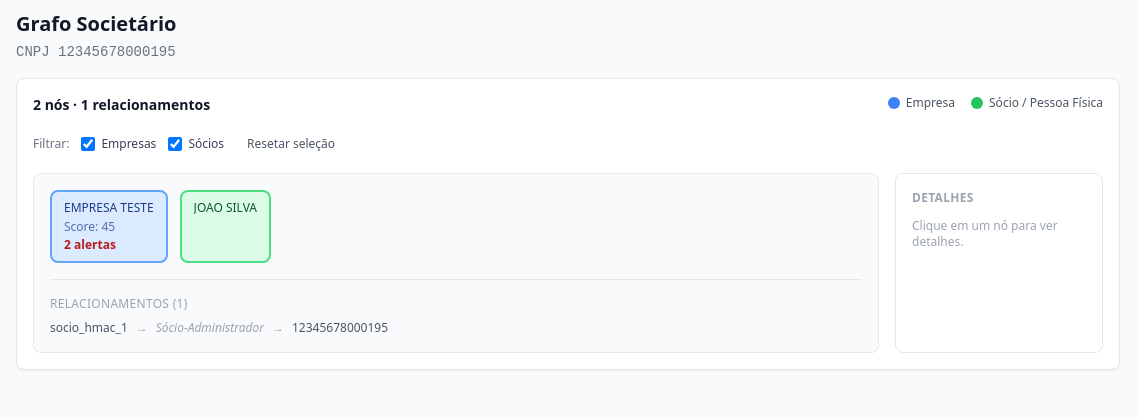
GrafoSocietario › shows node tooltip on click
The image size is (1137, 419).
Expected: the text "EMPRESA TESTE" is shown, [64,200,154,215]
Expected: the text "Clique em um nó para ver detalhes." is shown, [912,217,1058,250]
Note: Click the empresa node button.
Click the button "EMPRESA TESTE Score: 45 2 alertas" at (109, 226), box [50,190,168,263]
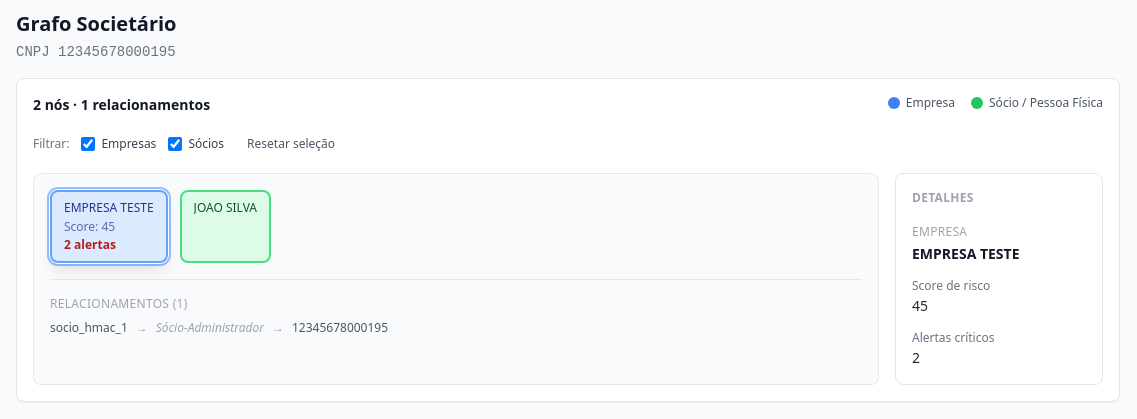
Now the text "Score de risco" is shown, box [912,277,990,294]
